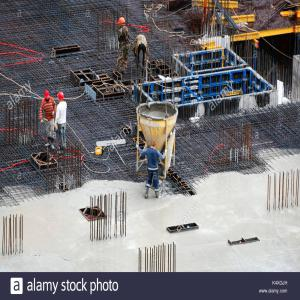none: (152, 141, 158, 150)
red: (119, 17, 126, 28), (58, 93, 64, 104), (45, 91, 51, 101)
